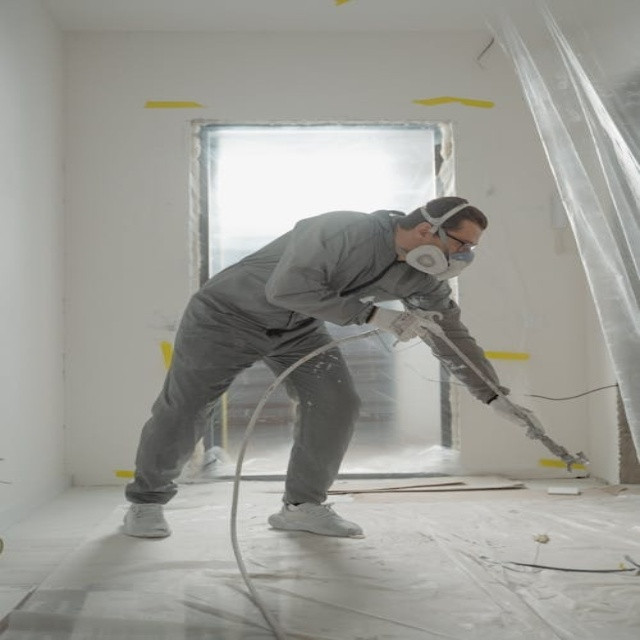Gafas: (443, 227, 477, 250)
Guantes: (363, 305, 431, 342), (488, 394, 534, 431)
Mascara: (404, 241, 472, 282)
